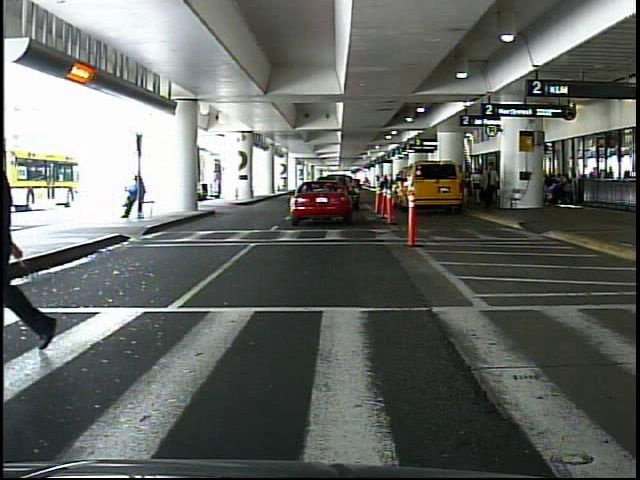person: (2, 125, 47, 349), (482, 163, 499, 209)
